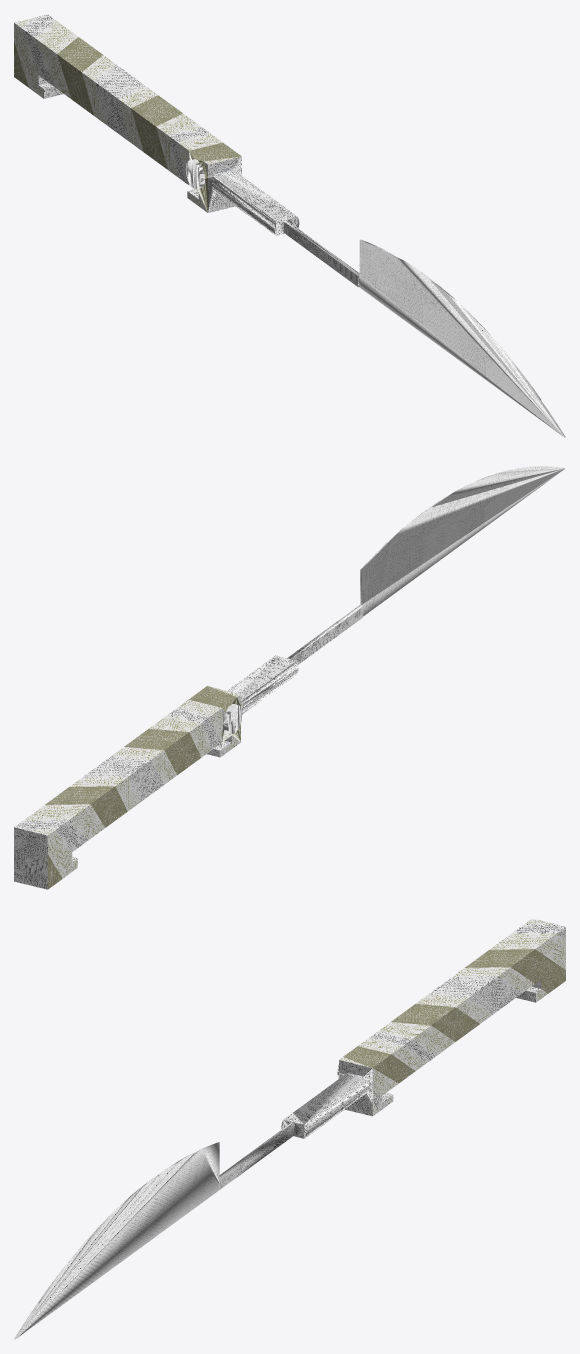
The model's file is model_align.obj.
3 views of the same model, one above another, from view 1: azimuth 30°, elevation 25°; view 2: azimuth 150°, elevation 25°; view 3: azimuth 330°, elevation 25° (orthographic).
Size of the model in its own units: 0.00842 by 0.0183 by 0.2039.
